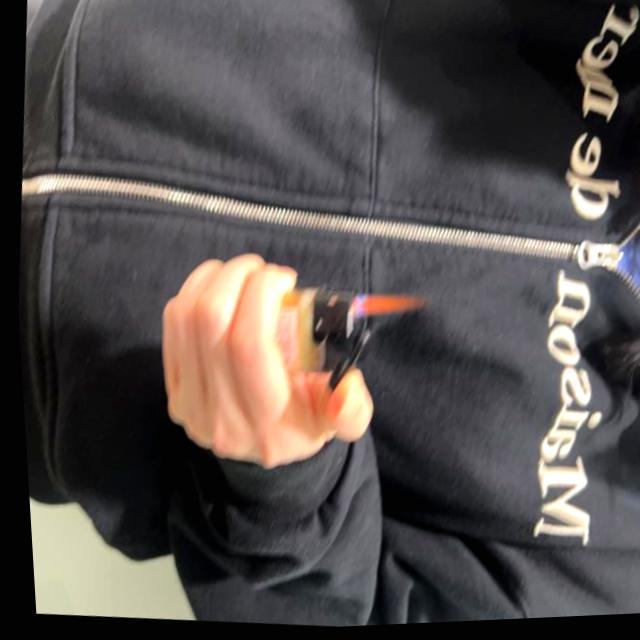helmet: (347, 288, 426, 329)
